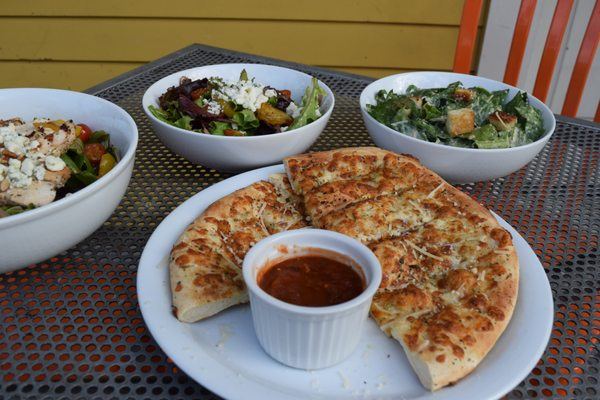pizza: (244, 227, 383, 371)
sushi: (0, 86, 138, 275), (358, 69, 557, 183), (141, 59, 334, 172), (241, 225, 384, 375)
